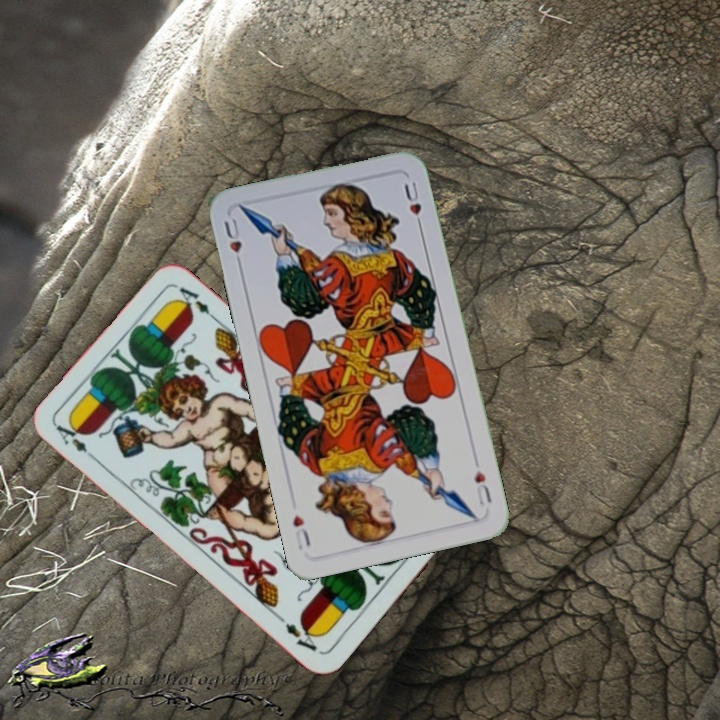EA: (52, 420, 101, 465)
HU: (220, 213, 246, 272), (470, 466, 494, 508)
